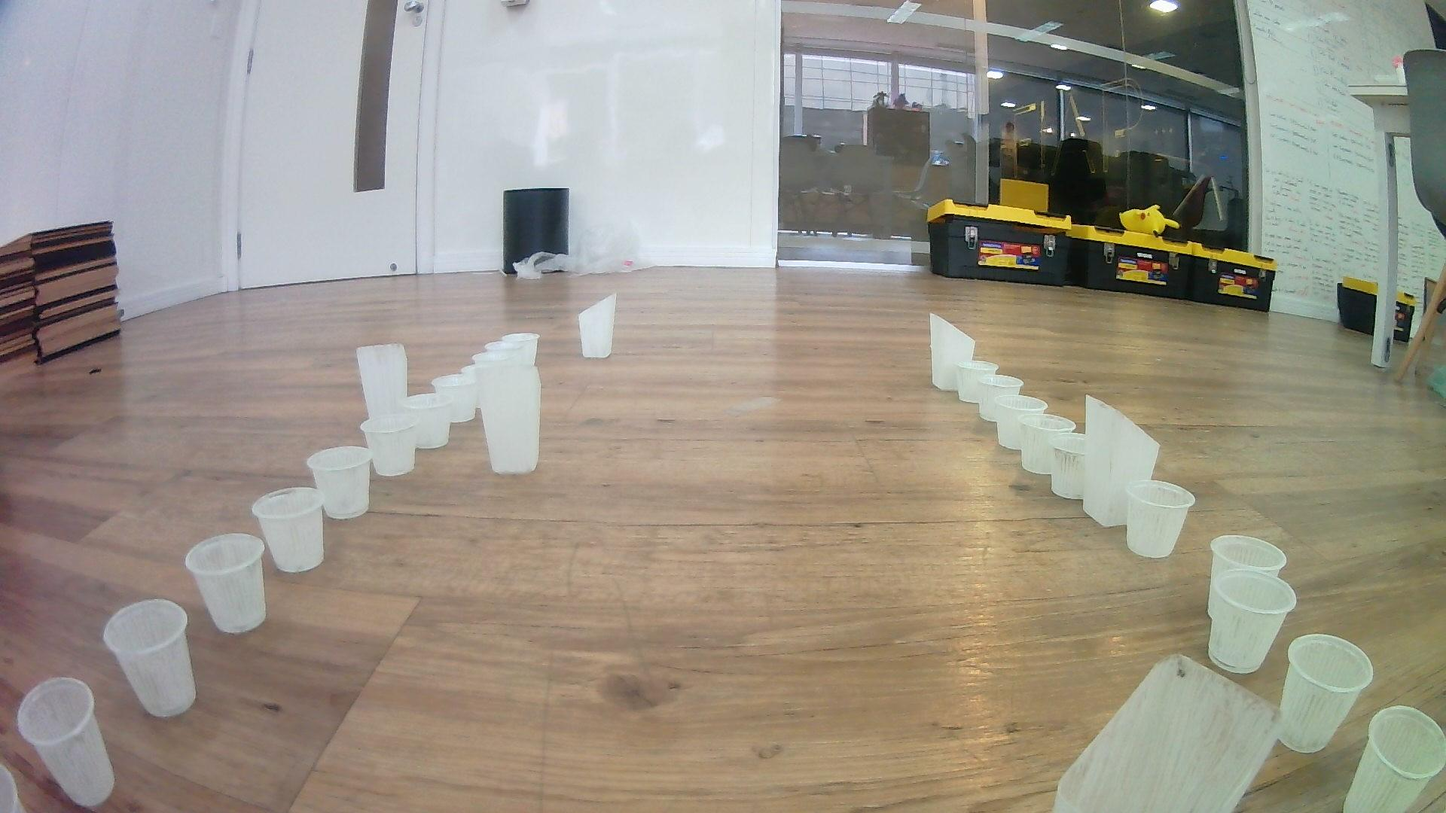erva_daninha: (1051, 653, 1283, 813), (1081, 395, 1161, 528), (474, 364, 542, 477), (355, 343, 408, 421), (929, 312, 977, 391), (578, 291, 618, 359)
planta: (17, 676, 117, 809), (1277, 633, 1374, 754), (102, 598, 197, 718), (1342, 705, 1446, 813), (1207, 569, 1298, 674), (185, 533, 267, 635), (1207, 534, 1288, 620), (252, 487, 326, 574), (1125, 480, 1197, 559), (306, 446, 373, 521), (361, 413, 419, 477), (1020, 413, 1076, 475), (994, 394, 1048, 450), (403, 392, 452, 449), (1048, 432, 1089, 500), (432, 373, 477, 423), (978, 374, 1024, 422), (955, 359, 999, 403), (460, 361, 499, 405), (502, 332, 540, 367), (0, 763, 26, 813), (471, 350, 516, 373), (485, 340, 526, 361)
